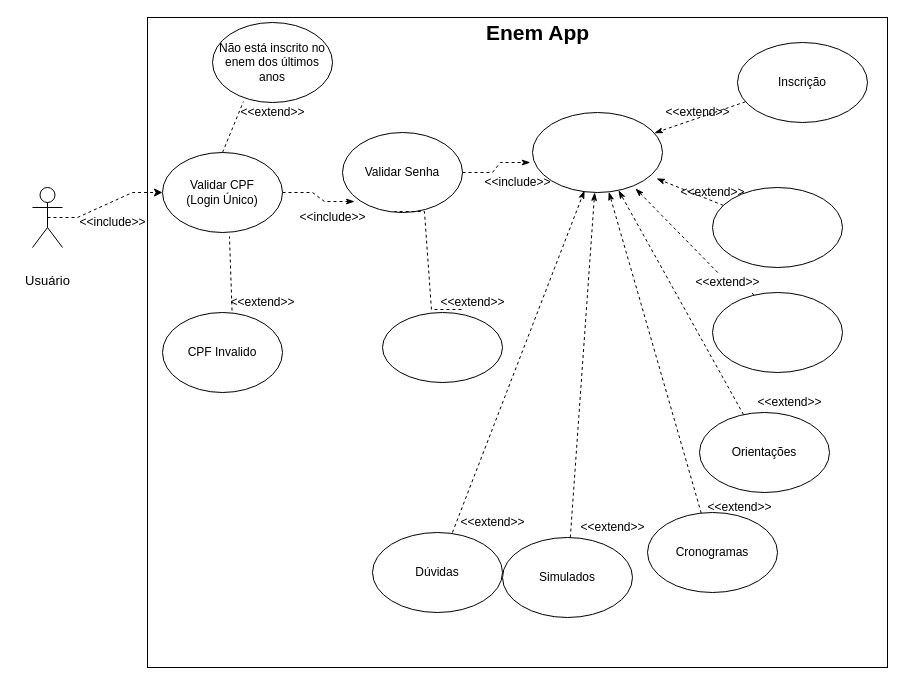
The diagram is 905 pixels wide and 685 high, and some of its shapes have lost their labels. Here are the shapes that lost their labels. From the top down, the box of each, then its label:
(532, 112, 662, 192): Interface Principal (Pagina do participante)
(32, 186, 62, 248): Actor
(712, 186, 842, 268): Resultados Anteriores
(382, 312, 502, 382): Senha inválida
(712, 292, 842, 372): Baixar conteúdo(redação,vista pedagógica)
